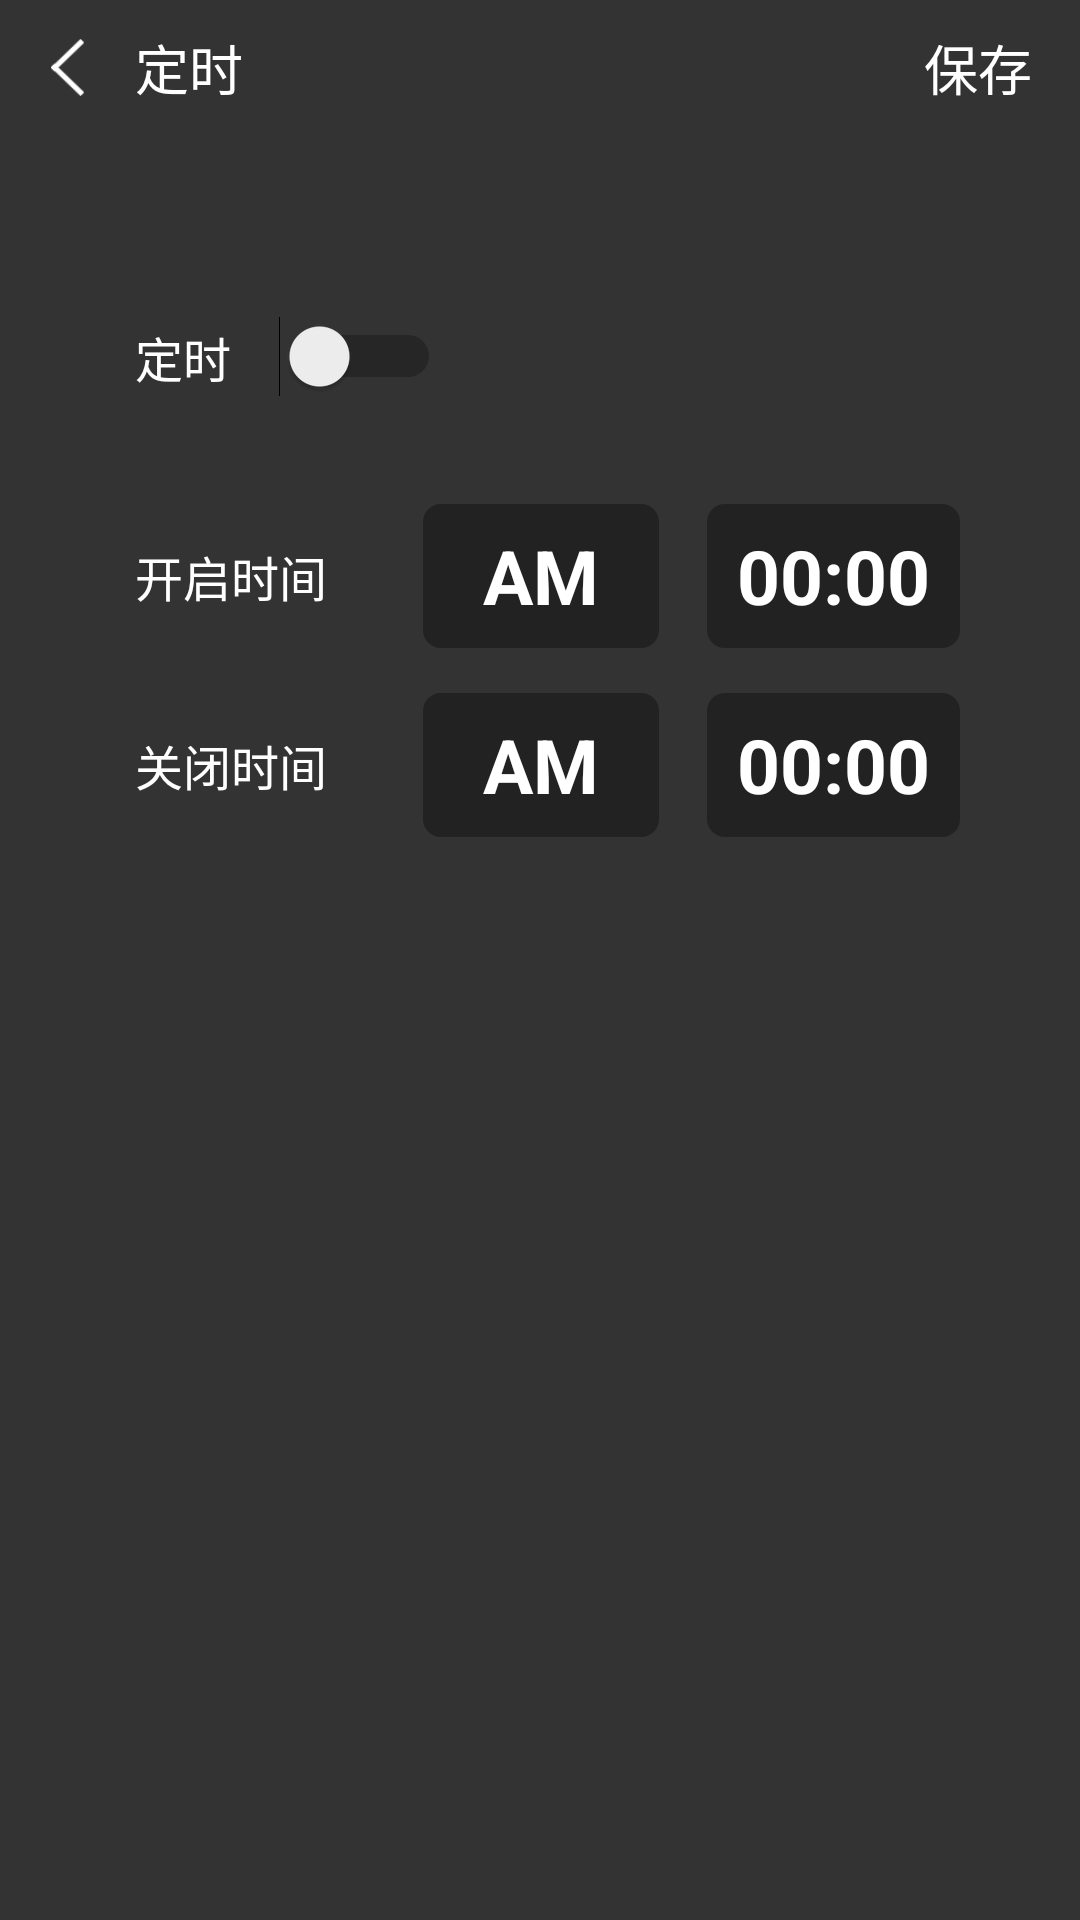

Icons on this 1080px x 1920px Android screen, each with its box as (x1,y1,x2,y2):
back: (51,39,84,96)
